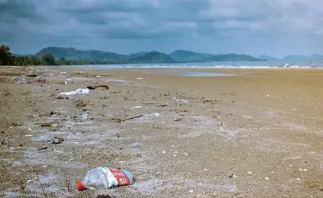garbage: (73, 164, 133, 190), (17, 71, 41, 91), (54, 85, 111, 91)
